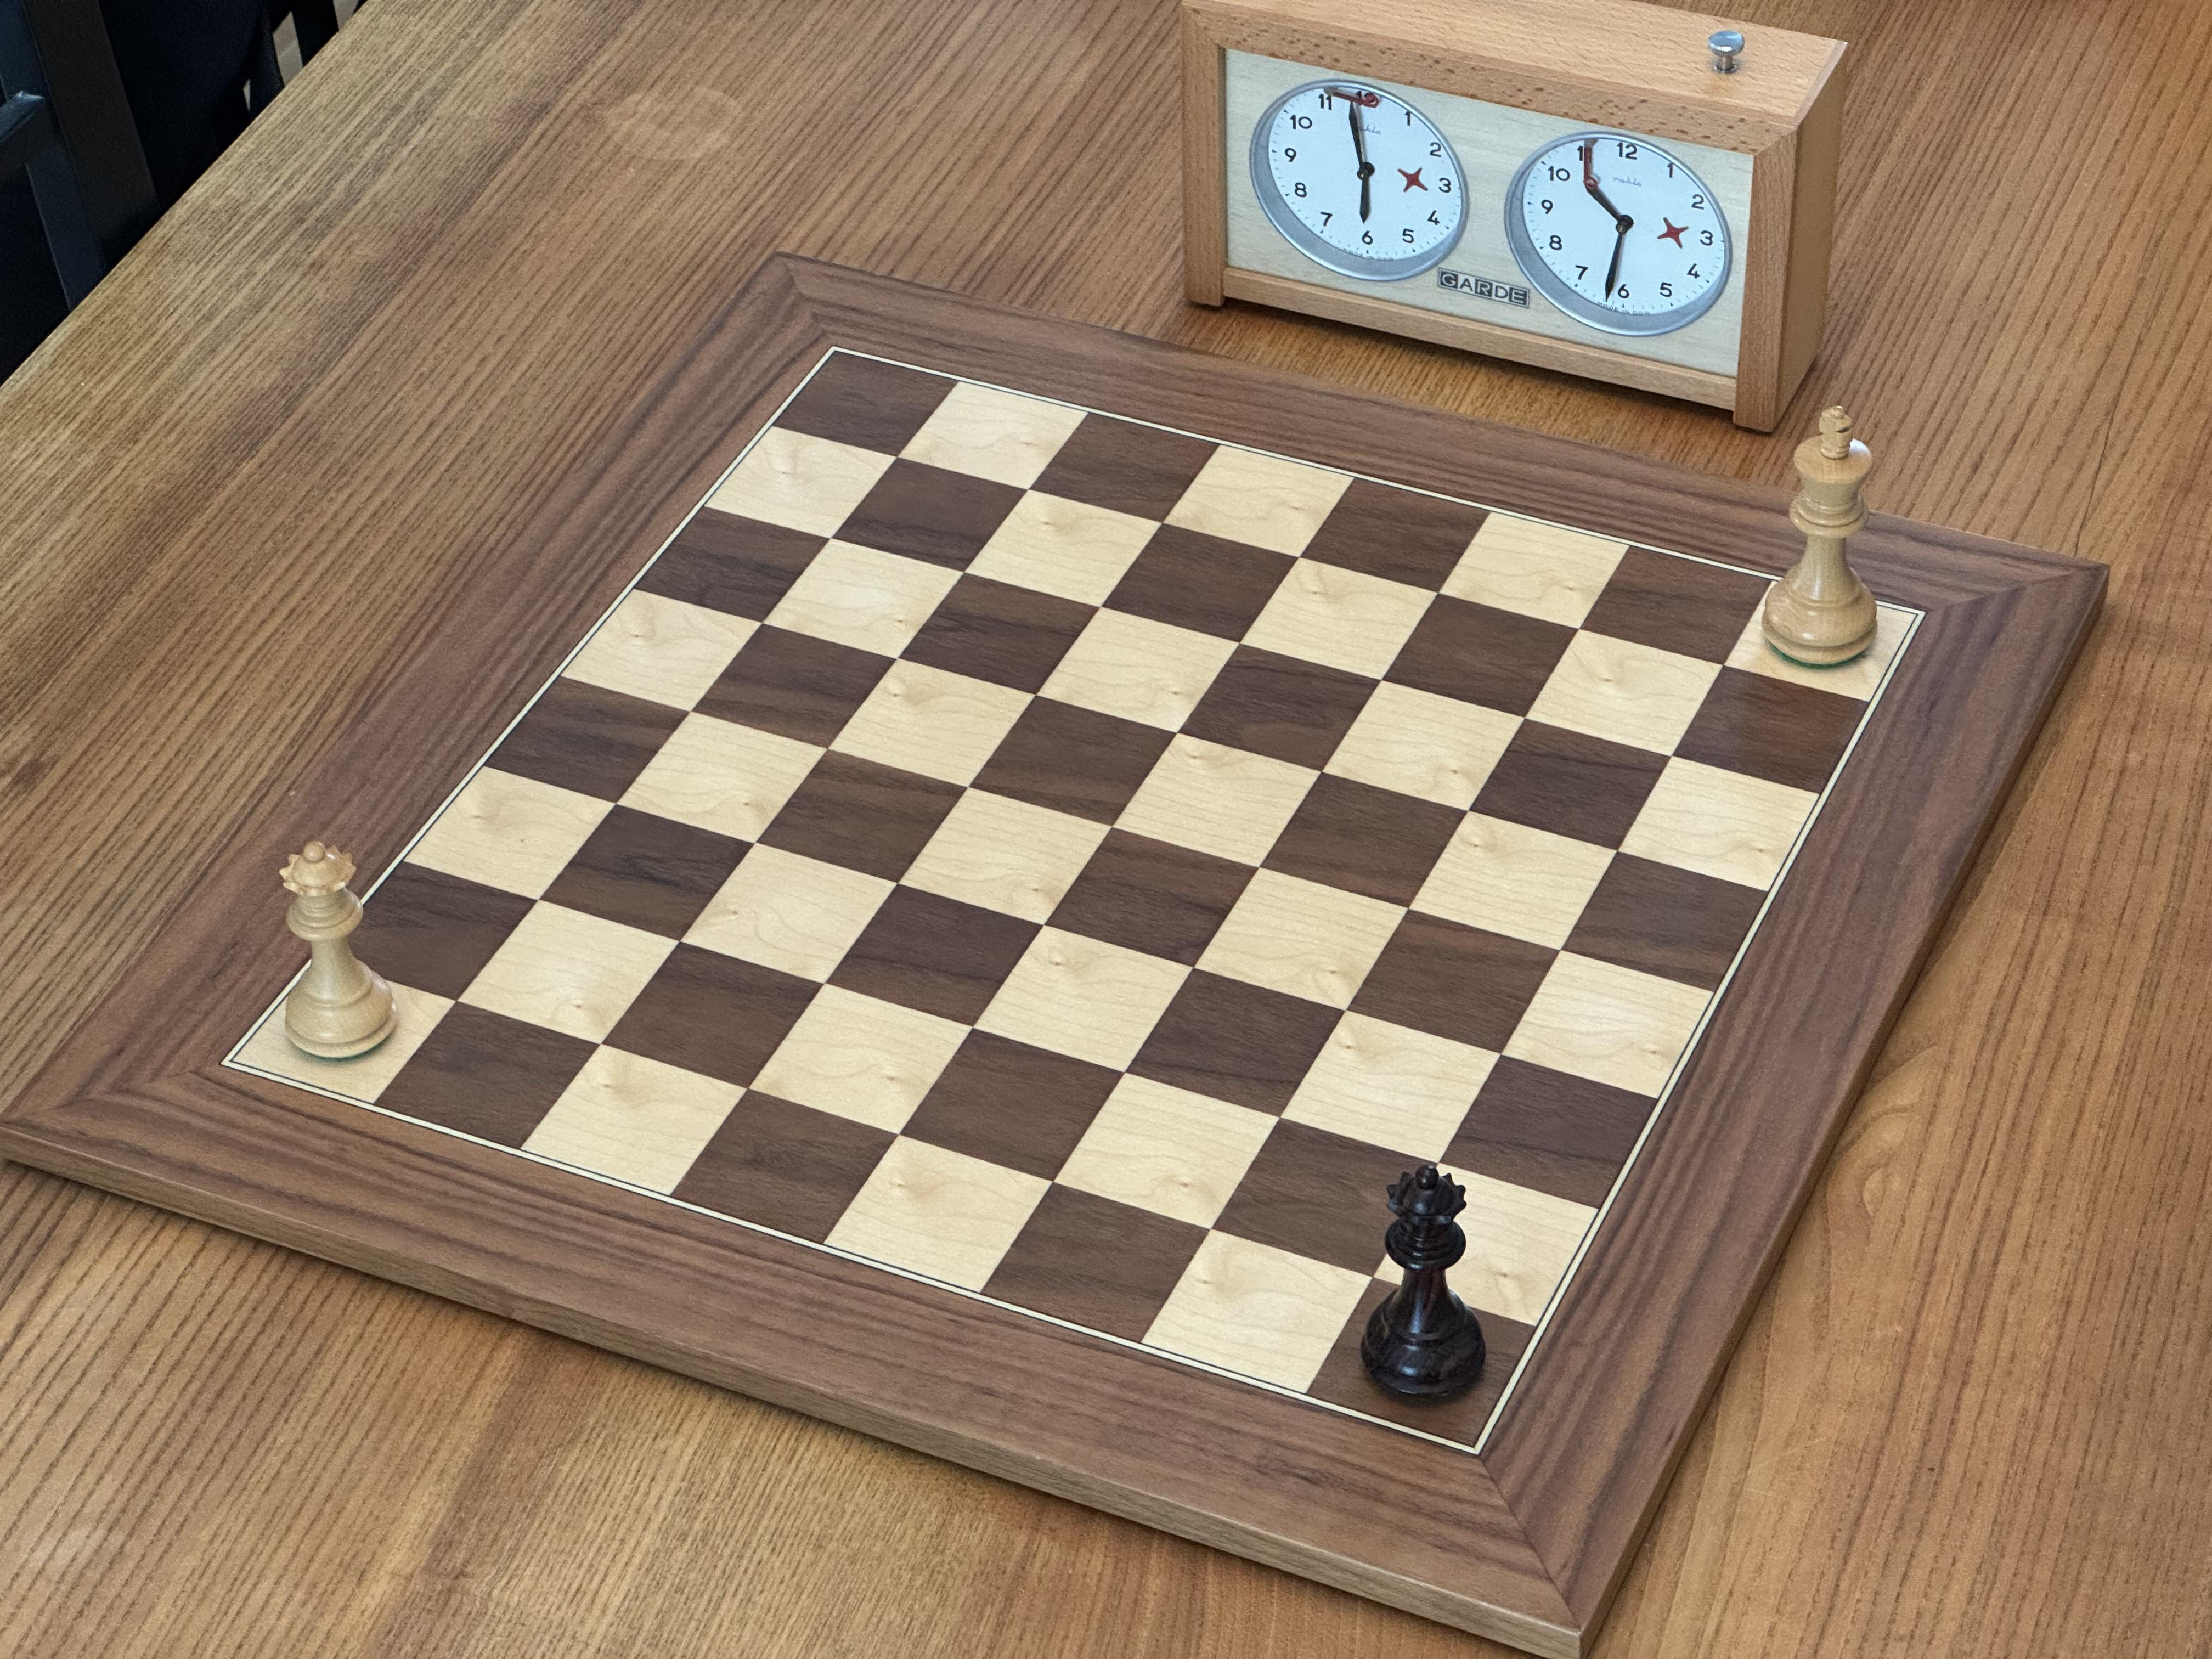corner A: (142, 981, 311, 1148)
corner B: (1379, 1363, 1567, 1549)
corner C: (1840, 530, 2004, 700)
